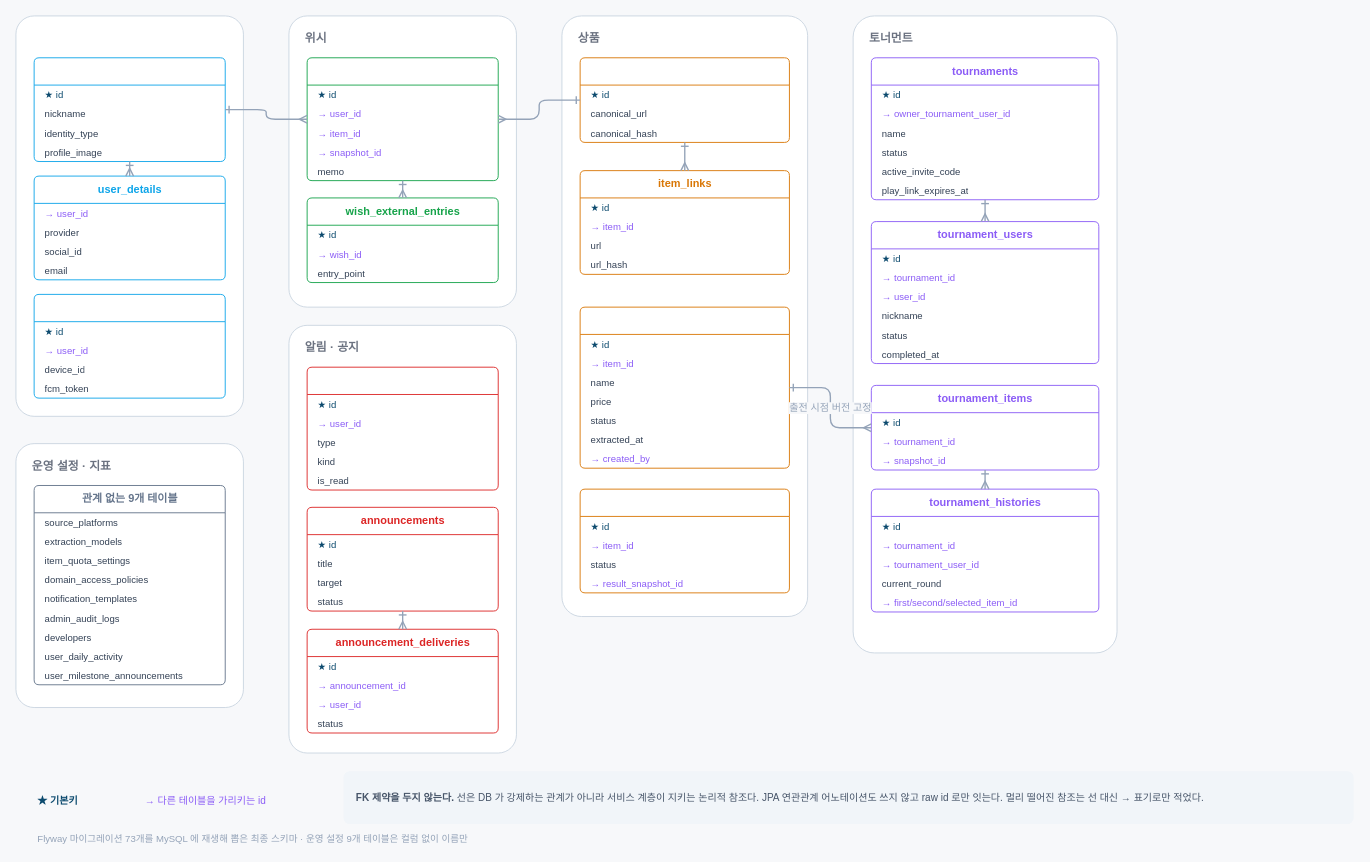
This 1370x862 diagram has some shape labels left out. The box of each missing label's shape, as (x1, y1, x2, y2) in pixels:
item_snapshots: (579, 306, 789, 468)
items: (579, 57, 789, 142)
notifications: (306, 366, 498, 490)
parse_requests: (579, 488, 789, 593)
user_devices: (33, 293, 225, 398)
users: (33, 57, 225, 162)
wishes: (306, 57, 498, 181)
사용자: (15, 15, 243, 416)
